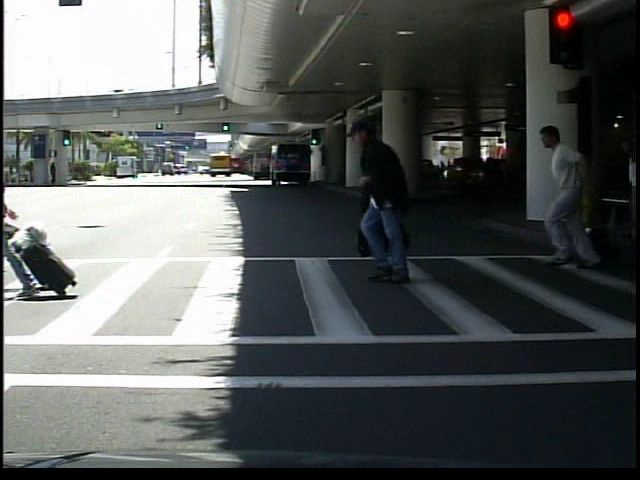person: (340, 114, 433, 285), (541, 113, 606, 271)
